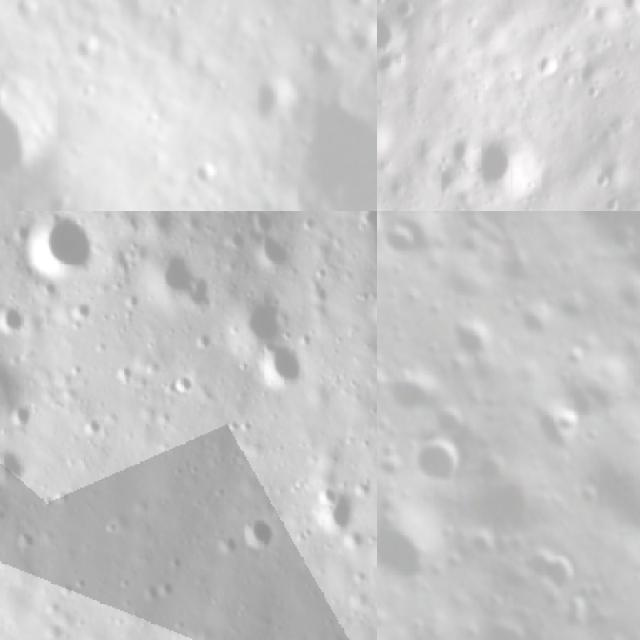crater: (282, 93, 377, 211), (377, 490, 459, 603), (0, 88, 65, 194), (507, 532, 592, 612), (377, 351, 455, 434), (464, 124, 542, 206), (22, 211, 99, 292), (397, 424, 476, 499), (141, 242, 210, 309), (437, 306, 504, 370), (504, 291, 566, 354), (224, 288, 290, 346), (377, 211, 436, 271), (305, 475, 361, 536), (230, 508, 285, 561), (264, 338, 314, 396), (540, 396, 586, 444), (377, 7, 412, 64), (248, 76, 286, 127), (187, 153, 225, 195), (0, 444, 28, 490), (0, 293, 22, 339), (377, 103, 396, 156), (612, 0, 640, 17), (0, 60, 9, 95)
